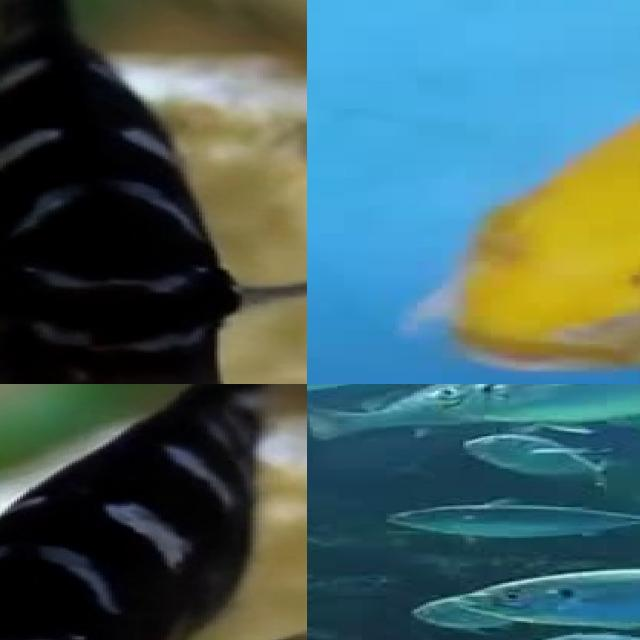fish: (0, 0, 307, 384), (0, 384, 307, 640), (395, 384, 640, 412)
